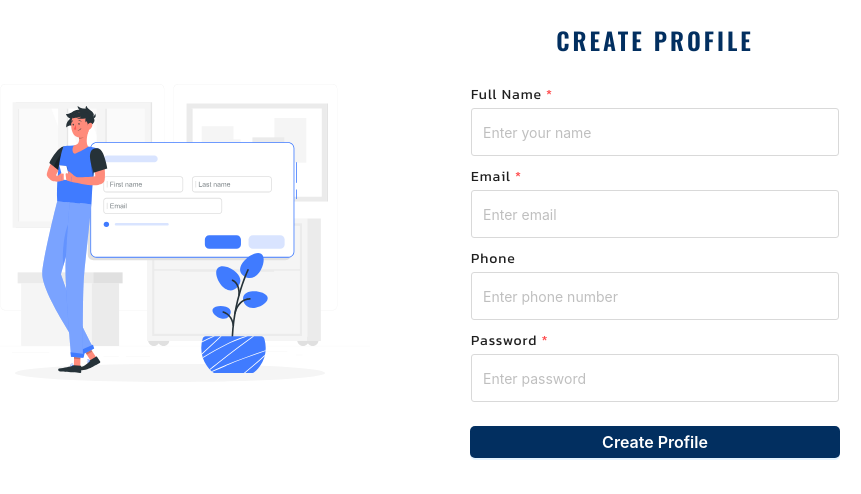
ProfileForm Component › displays an error for an invalid email format
Type "invalid-email" into the field with placeholder "Enter email" at (655,214), box [471,190,839,238]
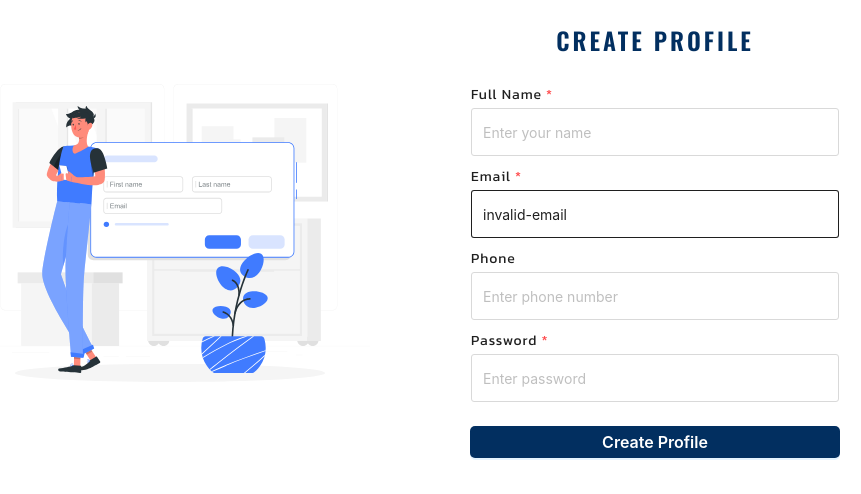
Click the button "Create Profile" at (655,442), box [470,426,840,458]
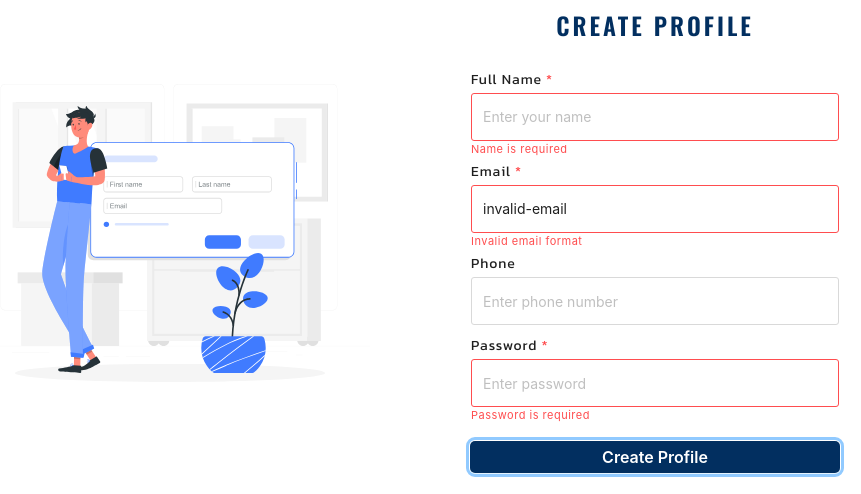
Check: the text "Invalid email format" is shown, box [471,234,582,248]
